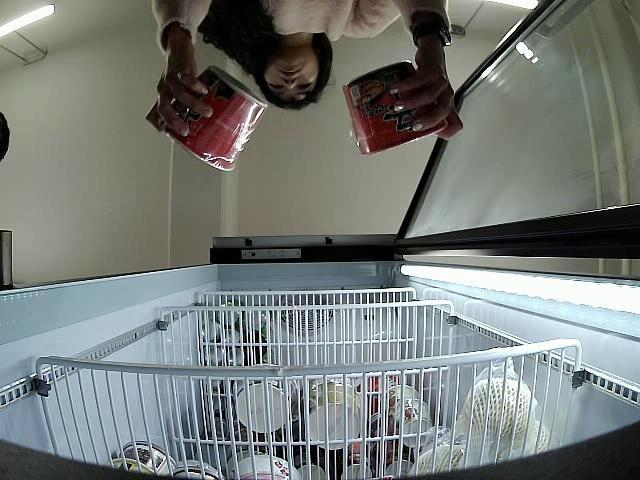01_ShinRamen_L: (146, 66, 270, 174), (342, 60, 452, 158)
